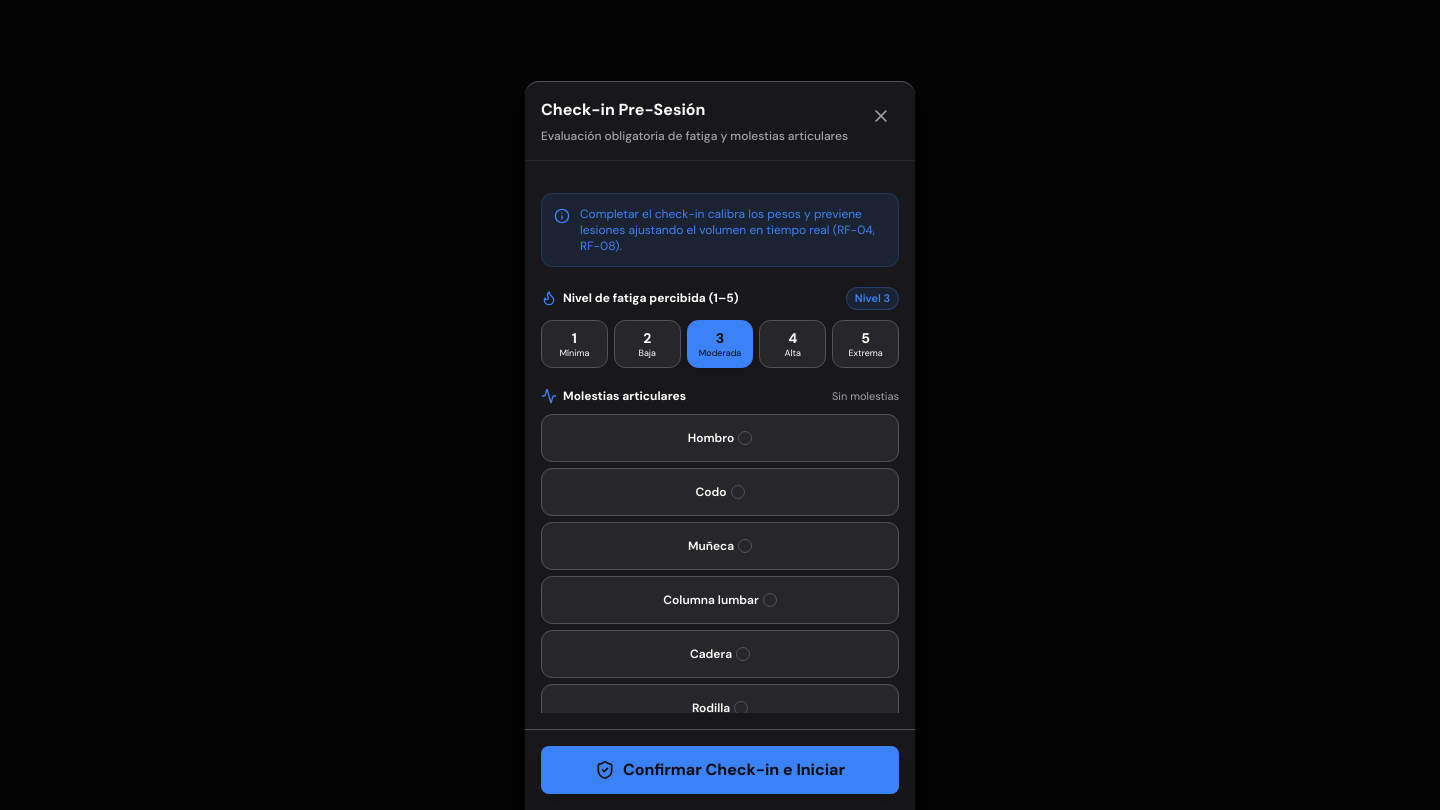
Test: TASK-68: CheckInModal - Pre-Session Fatigue & Joint Pain (RF-04, CA-04.1, CA-04.2, CA-04.3) › should display error message when API check-in fails
Click the button "Confirmar Check-in e Iniciar".
click(720, 770)  # box [541,746,899,794]
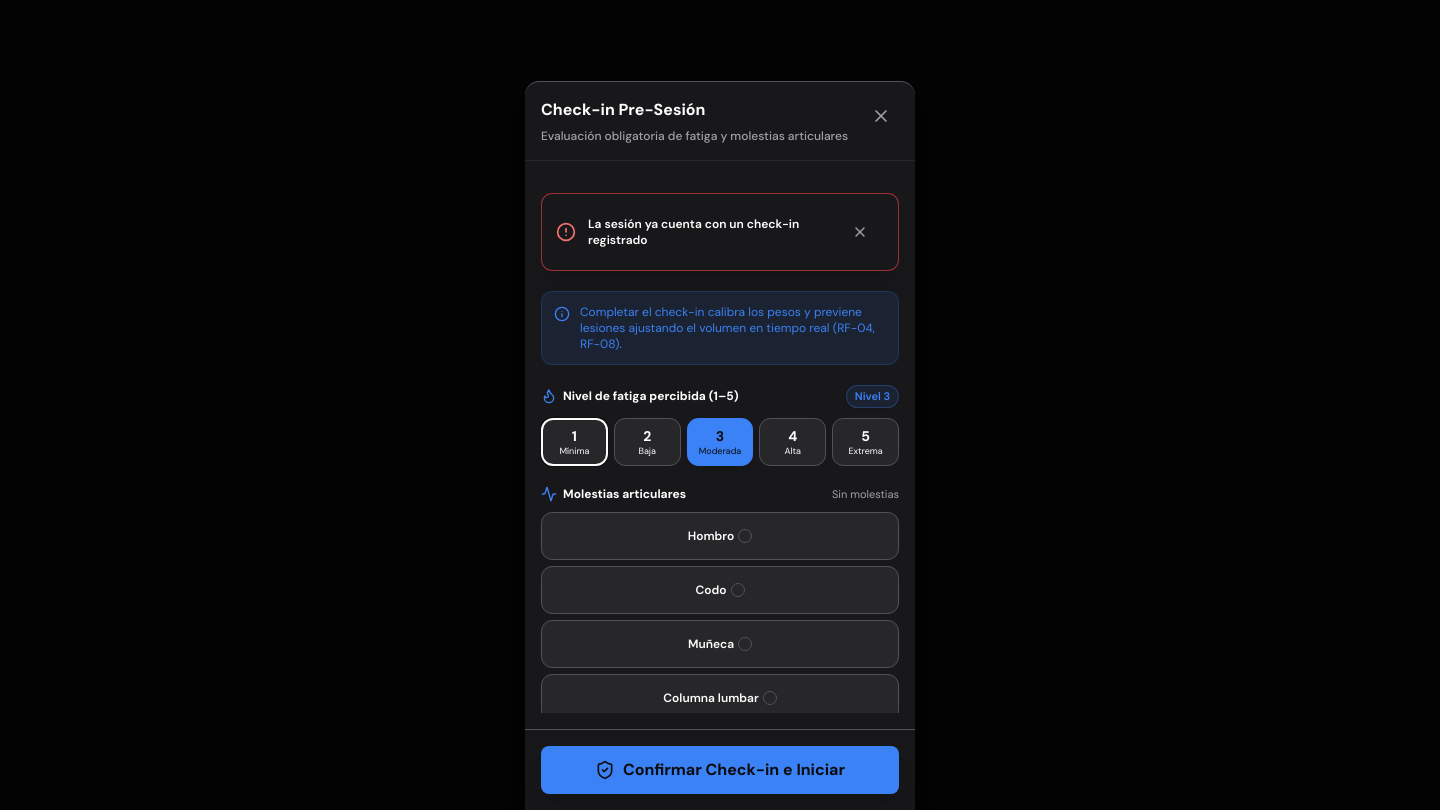
Now the text "La sesión ya cuenta con un check-in registrado" is shown, box [588,216,824,248]
